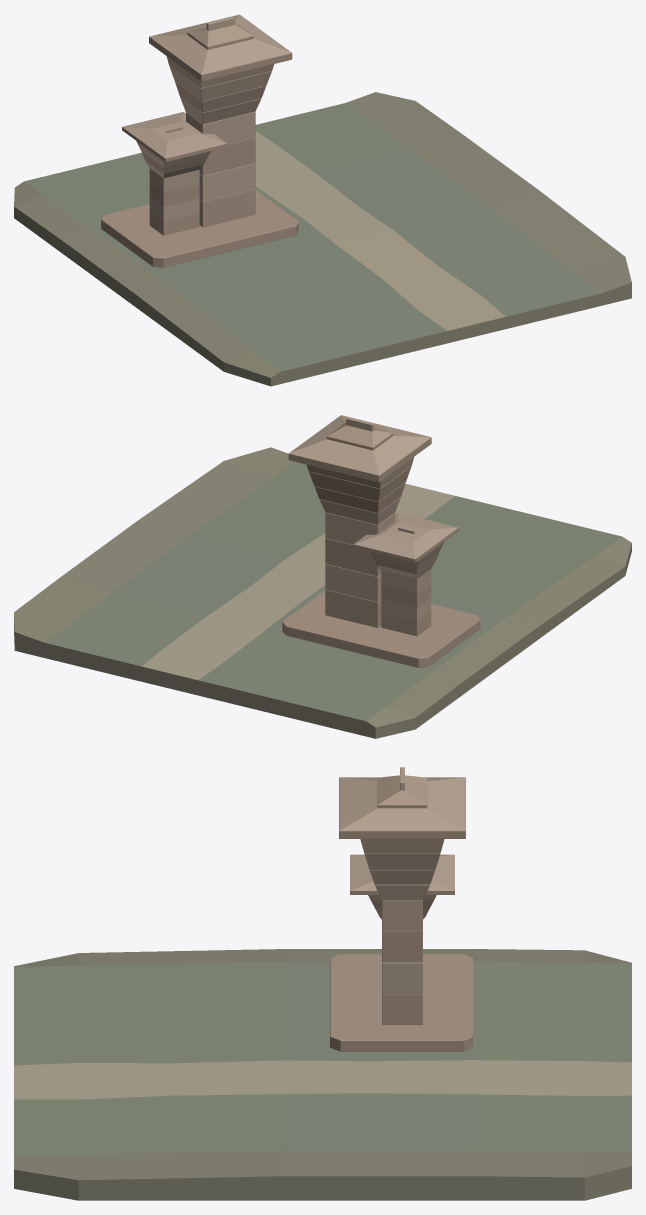
The model's file is que-A.glb.
The picture shows the model from 3 angles, top to bottom: view 1: azimuth 30°, elevation 25°; view 2: azimuth 150°, elevation 25°; view 3: azimuth 270°, elevation 25°; orthographic projection. The views are drawn at different scales.
Parts seen in each view (by area): view 1: C_continuous_terrain_and_tread, C_original_chamfered_plinth, B_main_lower_cover, B_sub_lower_cover, B_main_shaft_0, B_main_shaft_1, B_main_transition_2, B_main_shaft_2, B_main_shaft_3, B_main_broad_lower_eave, B_main_transition_1, B_main_transition_0 (+6 smaller); view 2: C_continuous_terrain_and_tread, C_original_chamfered_plinth, B_main_lower_cover, B_sub_lower_cover, B_main_shaft_1, B_main_shaft_0, B_main_transition_2, B_main_shaft_3, B_main_shaft_2, B_main_broad_lower_eave, B_main_transition_1, B_main_transition_0 (+6 smaller); view 3: C_continuous_terrain_and_tread, C_original_chamfered_plinth, B_main_lower_cover, B_sub_lower_cover, B_main_compact_upper_cover, B_main_shaft_1, B_main_shaft_2, B_main_shaft_3, B_main_shaft_0, B_main_broad_lower_eave, B_main_transition_2, B_main_transition_3 (+2 smaller).
Boxes of the visible parts, bbox=[...] form: C_continuous_terrain_and_tread: bbox=[14, 92, 631, 386]; C_original_chamfered_plinth: bbox=[101, 190, 298, 267]; B_main_lower_cover: bbox=[149, 14, 291, 74]; B_sub_lower_cover: bbox=[122, 112, 226, 158]; B_main_shaft_0: bbox=[199, 189, 255, 227]; B_main_shaft_1: bbox=[199, 163, 255, 201]; B_main_transition_2: bbox=[169, 65, 271, 101]; B_main_shaft_2: bbox=[199, 137, 255, 175]; B_main_shaft_3: bbox=[186, 112, 255, 143]; B_main_broad_lower_eave: bbox=[149, 36, 292, 81]; B_main_transition_1: bbox=[175, 82, 265, 112]; B_main_transition_0: bbox=[180, 96, 260, 124]; C_continuous_terrain_and_tread: bbox=[14, 447, 631, 738]; C_original_chamfered_plinth: bbox=[282, 590, 480, 667]; B_main_lower_cover: bbox=[289, 415, 431, 475]; B_sub_lower_cover: bbox=[354, 512, 458, 559]; B_main_shaft_1: bbox=[325, 564, 381, 602]; B_main_shaft_0: bbox=[325, 589, 381, 627]; B_main_transition_2: bbox=[308, 466, 411, 501]; B_main_shaft_3: bbox=[325, 512, 394, 544]; B_main_shaft_2: bbox=[325, 538, 381, 576]; B_main_broad_lower_eave: bbox=[288, 437, 431, 482]; B_main_transition_1: bbox=[314, 482, 405, 513]; B_main_transition_0: bbox=[319, 497, 400, 524]; C_continuous_terrain_and_tread: bbox=[14, 949, 631, 1200]; C_original_chamfered_plinth: bbox=[330, 954, 472, 1051]; B_main_lower_cover: bbox=[339, 777, 465, 830]; B_sub_lower_cover: bbox=[350, 854, 454, 890]; B_main_compact_upper_cover: bbox=[378, 775, 426, 804]; B_main_shaft_1: bbox=[382, 962, 422, 993]; B_main_shaft_2: bbox=[382, 931, 422, 962]; B_main_shaft_3: bbox=[382, 900, 422, 931]; B_main_shaft_0: bbox=[382, 994, 422, 1024]; B_main_broad_lower_eave: bbox=[339, 778, 465, 838]; B_main_transition_2: bbox=[364, 853, 440, 869]; B_main_transition_3: bbox=[360, 839, 444, 853].
Bounding box in the file's own units: 9.5 × 5 × 10.5.
